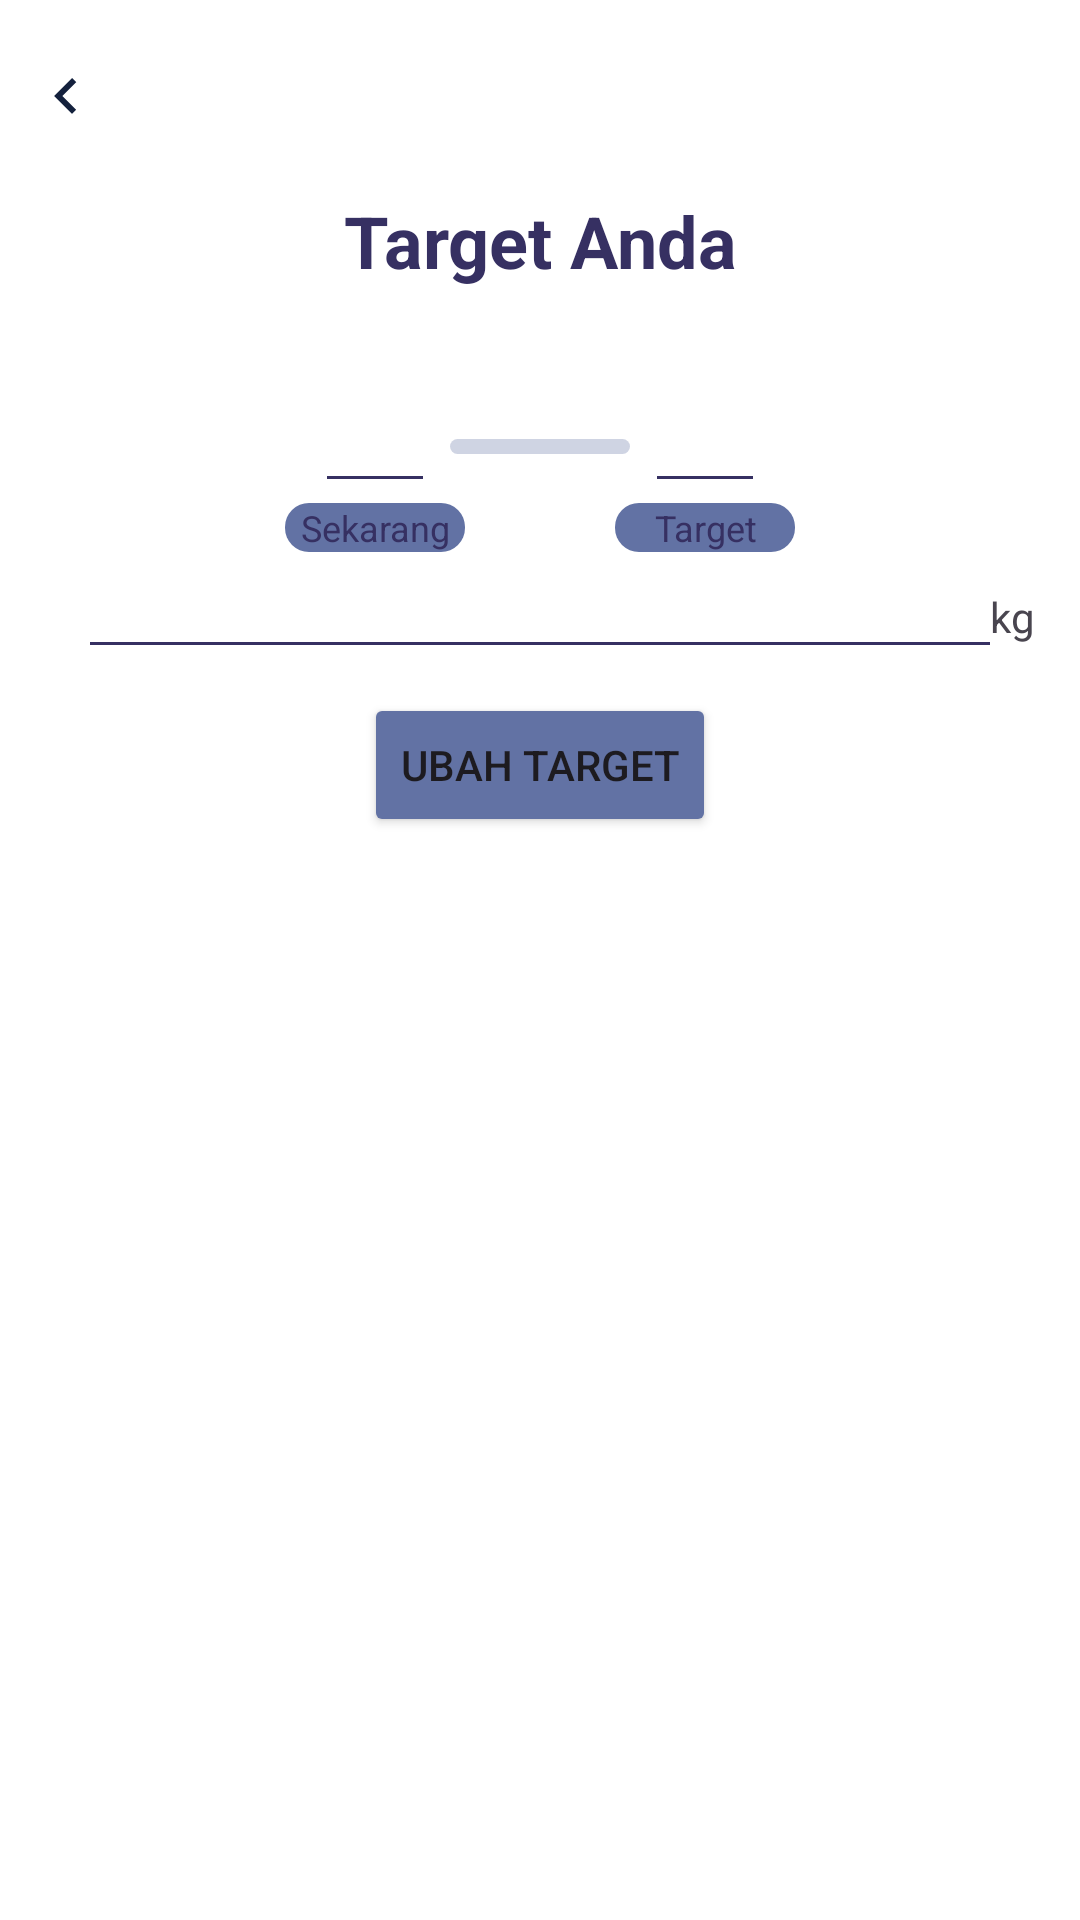

Icon click points for this 1080 × 1920 phone screenshot, format (x=x, y=y):
arrow left: (x=65, y=96)
